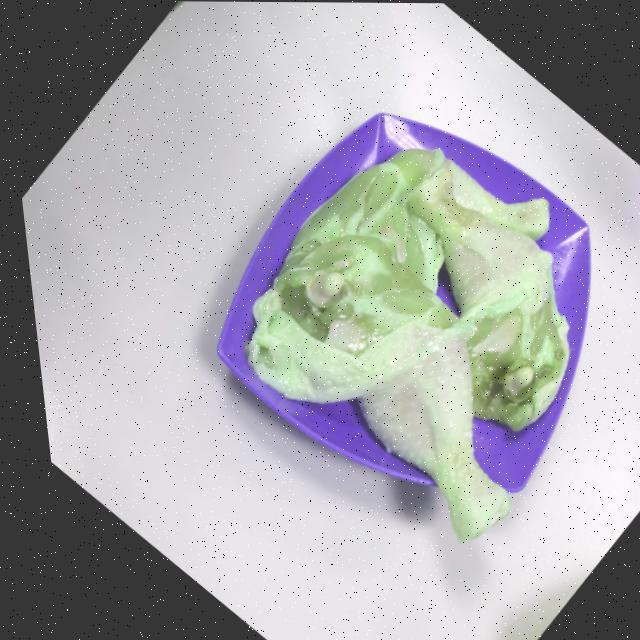quater: (264, 244, 500, 558), (410, 174, 572, 428), (291, 147, 552, 270)
